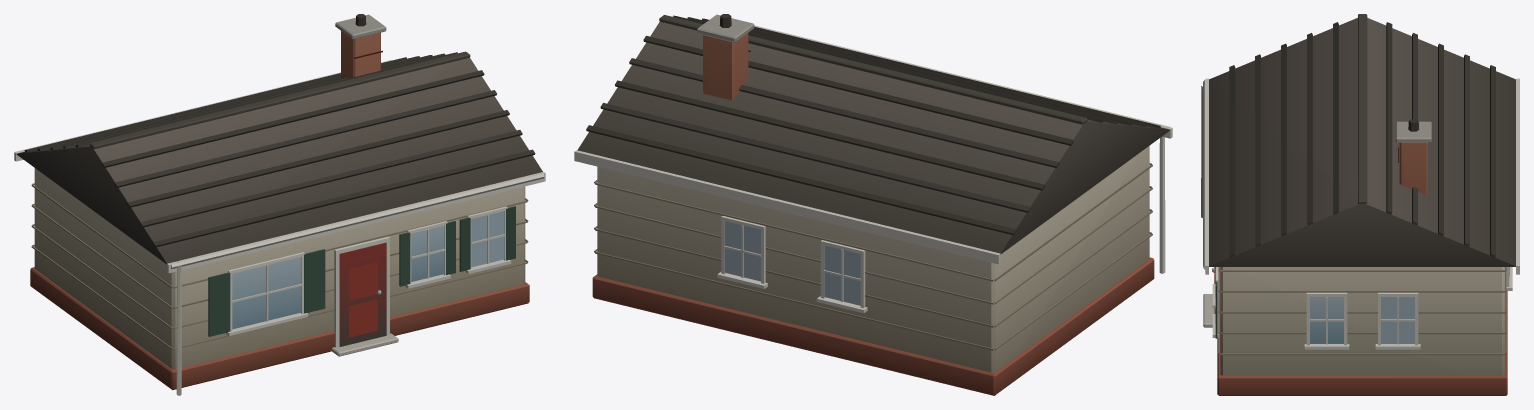
The model's file is ranch-house.glb.
3 views of the same model, side by side, from view 1: azimuth 30°, elevation 25°; view 2: azimuth 150°, elevation 25°; view 3: azimuth 270°, elevation 25° (orthographic). The views are drawn at different scales.
Visible parts, largest first — view 1: ranch_house; view 2: ranch_house; view 3: ranch_house.
Part boxes in pixels (x1,y1,x2,y2): ranch_house: (14,14,545,395); ranch_house: (574,14,1172,395); ranch_house: (1201,14,1519,395).
Size of the model in its own units: 8.16 by 4.84 by 5.83.
